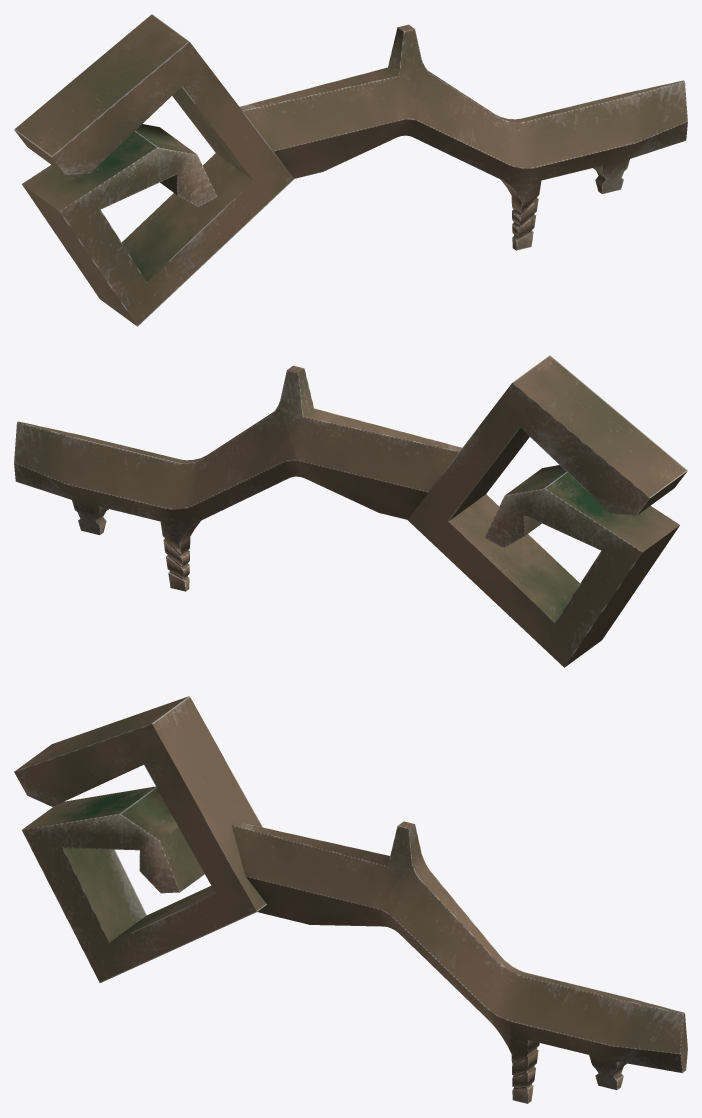
The model's file is Key.glb.
The picture shows the model from 3 angles, top to bottom: view 1: azimuth 30°, elevation 25°; view 2: azimuth 150°, elevation 25°; view 3: azimuth 330°, elevation 25°; orthographic projection.
Visible parts, largest first — view 1: Cube.011; view 2: Cube.011; view 3: Cube.011.
Boxes of the visible parts, x1=… form: Cube.011: x1=14, y1=14, x2=687, y2=326; Cube.011: x1=14, y1=355, x2=687, y2=667; Cube.011: x1=14, y1=696, x2=687, y2=1103.
Size of the model in its own units: 6.74 by 3.02 by 0.6758.
1 material, 1 textured.
